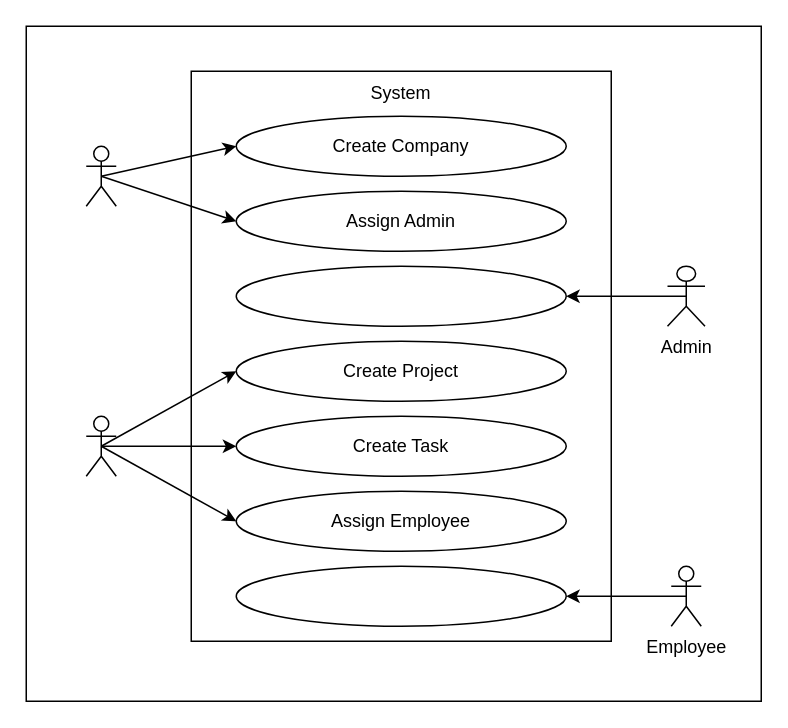
Image size: 788x728. Some labels were removed from this diagram. Each missing label, with the centre of its shape:
"Assign Manager" belongs at (400,295).
"Manager" belongs at (100,445).
"Super Admin" belongs at (100,175).
"Update Task Status" belongs at (400,595).
